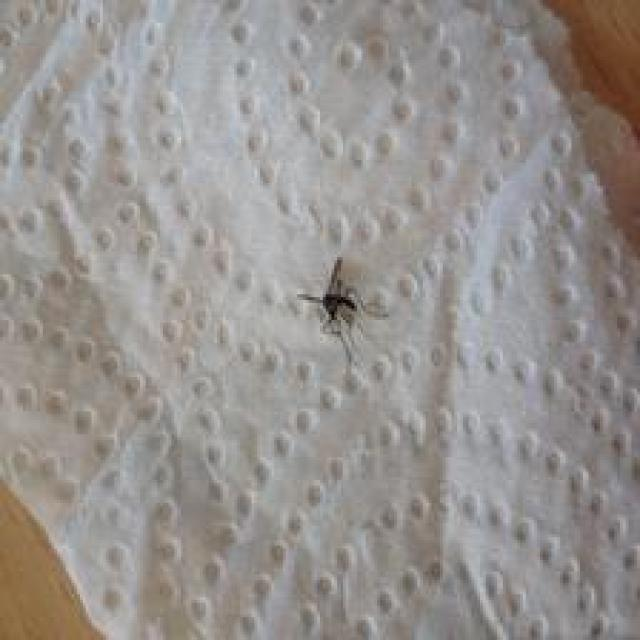Aedes albopictus: (296, 256, 390, 367)
